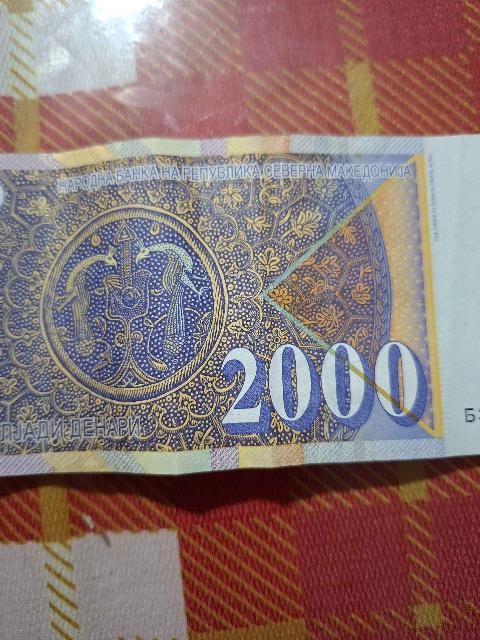note: (0, 137, 444, 473)
